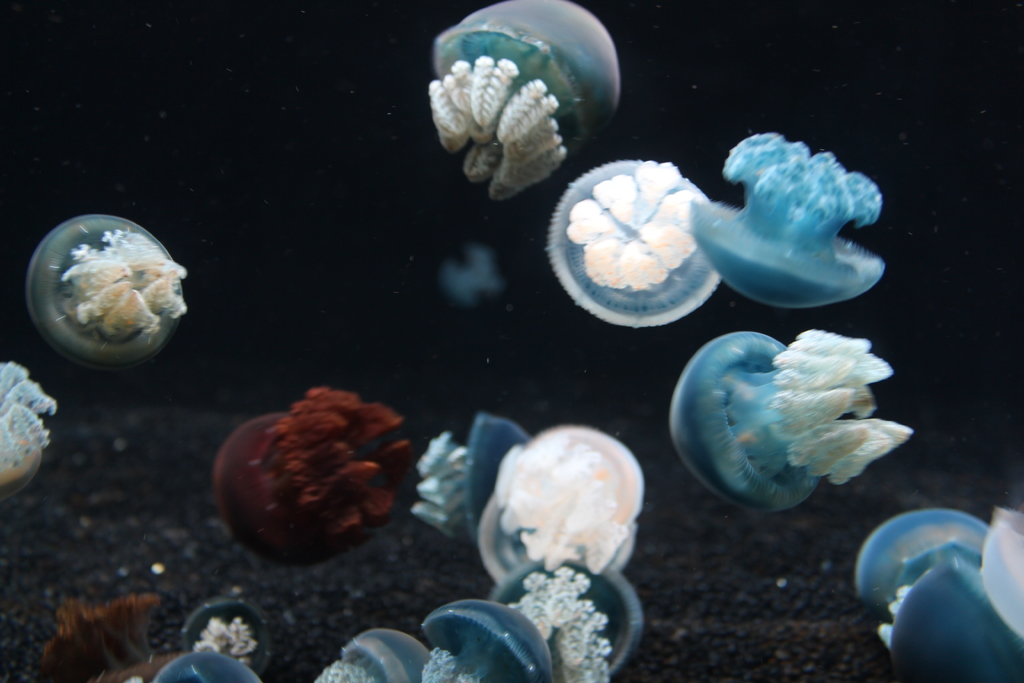Jellyfish: (90, 414, 650, 682), (667, 325, 912, 514), (421, 0, 622, 197), (211, 385, 408, 569), (687, 130, 882, 313), (545, 156, 723, 334), (22, 213, 186, 368), (881, 510, 1023, 682), (853, 508, 988, 648), (0, 362, 52, 503)
